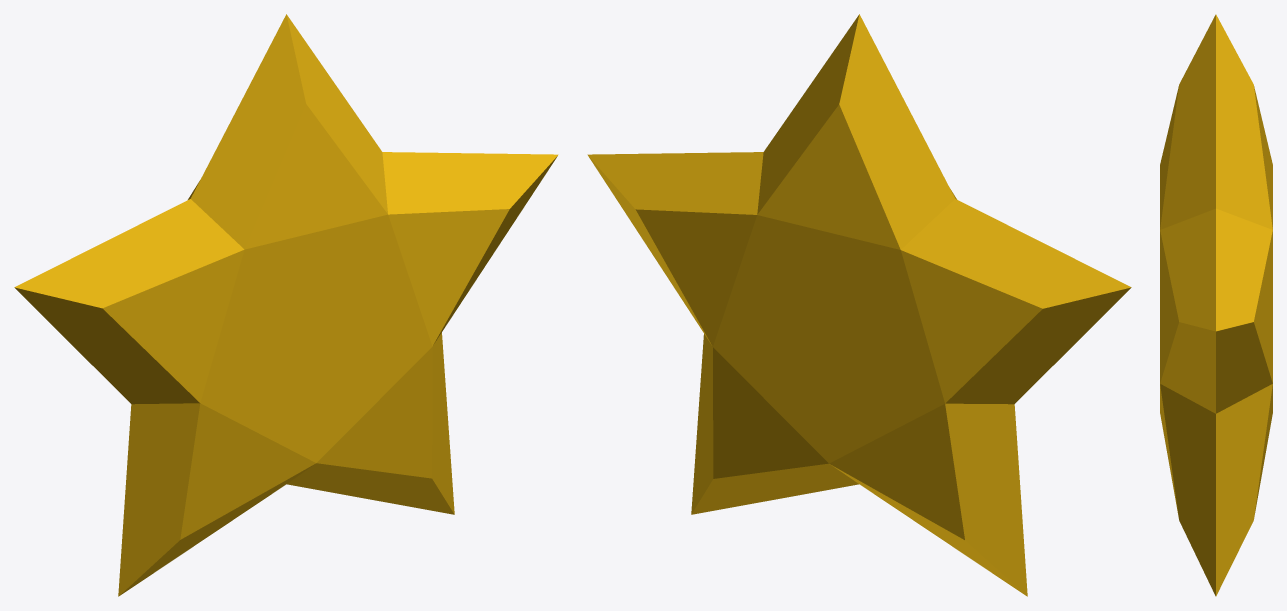
Rendered from Star.fbx.
3 views of the same model, side by side, from view 1: azimuth 30°, elevation 25°; view 2: azimuth 150°, elevation 25°; view 3: azimuth 270°, elevation 25° (orthographic). The views are drawn at different scales.
Visible parts, largest first — view 1: Star; view 2: Star; view 3: Star.
Boxes of the visible parts, x1,y1,x2,y2 form: Star: (14,14,558,596); Star: (587,14,1131,596); Star: (1160,14,1272,596).
Size of the model in its own units: 254 by 242 by 48.82.
